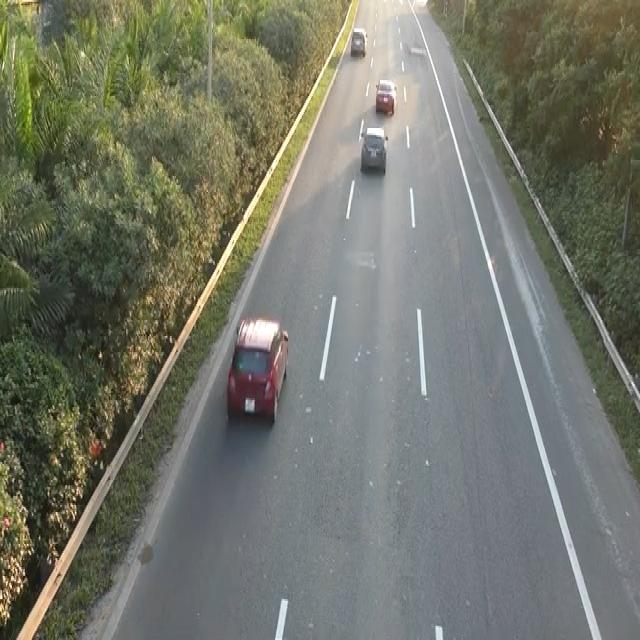bus: (225, 311, 290, 425), (359, 124, 388, 174), (374, 76, 396, 115)
